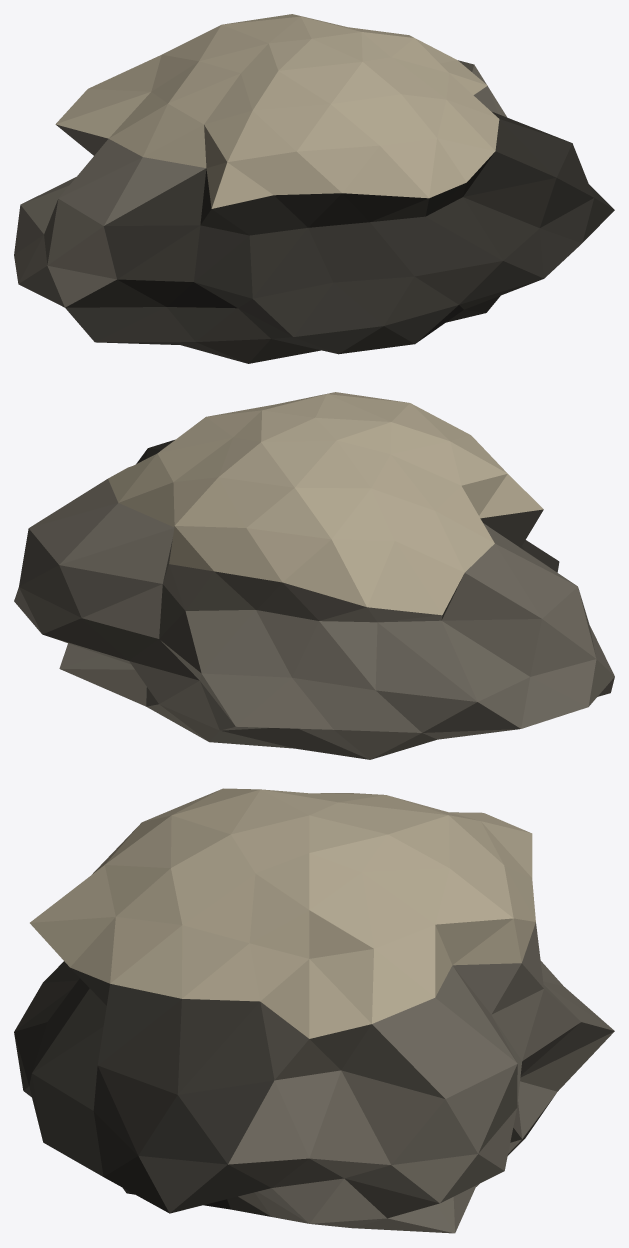
File: rock_a.glb
3 views of the same model, one above another, from view 1: azimuth 30°, elevation 25°; view 2: azimuth 150°, elevation 25°; view 3: azimuth 270°, elevation 25° (orthographic). The views are drawn at different scales.
Parts seen in each view (by area): view 1: model; view 2: model; view 3: model.
Boxes of the visible parts, x1=… form: model: x1=14, y1=14, x2=614, y2=363; model: x1=14, y1=392, x2=614, y2=759; model: x1=14, y1=788, x2=614, y2=1233.
Bounding box in the file's own units: 1.9 × 0.9416 × 1.48.
Materials: 1 (1 with a texture image).
